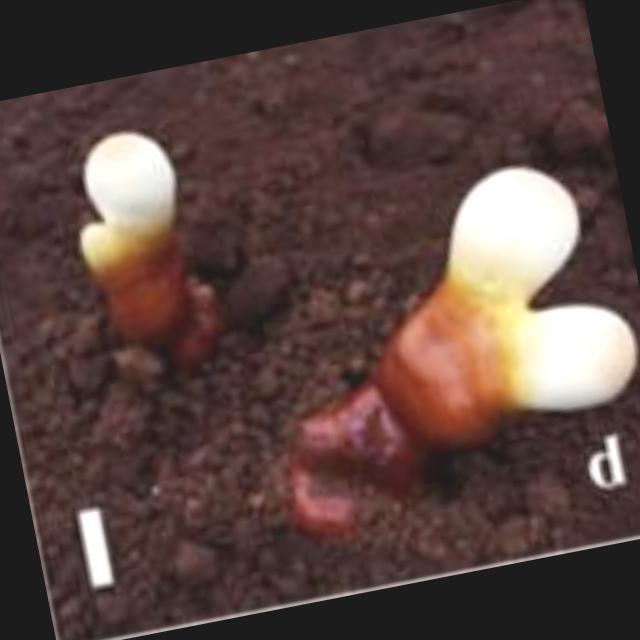primordium: (426, 153, 599, 323), (497, 292, 640, 427), (74, 121, 190, 248)
